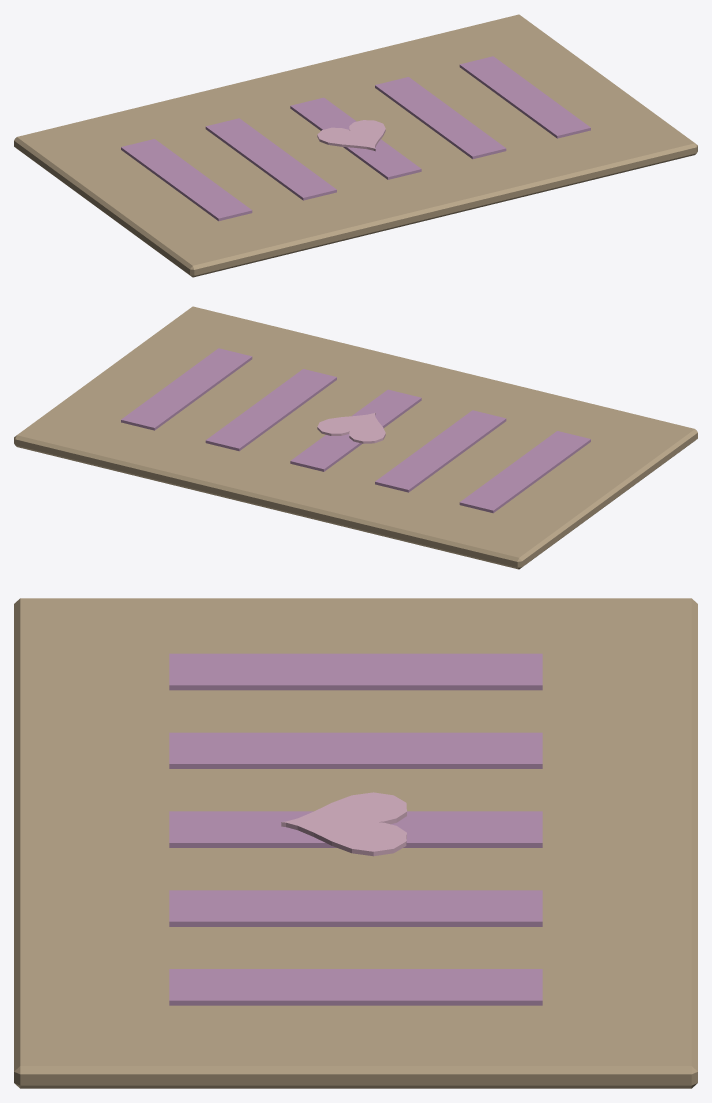
Rendered from WelcomeMat.fbx.
3 views of the same model, one above another, from view 1: azimuth 30°, elevation 25°; view 2: azimuth 150°, elevation 25°; view 3: azimuth 270°, elevation 25° (orthographic). The views are drawn at different scales.
Visible parts, largest first — view 1: Prop_WelcomeMat; view 2: Prop_WelcomeMat; view 3: Prop_WelcomeMat.
Boxes of the visible parts, x1,y1,x2,y2 form: Prop_WelcomeMat: (14, 14, 697, 277); Prop_WelcomeMat: (14, 306, 697, 569); Prop_WelcomeMat: (14, 598, 697, 1088).
Bounding box in the file's own units: 0.9 × 0.029 × 0.55.
